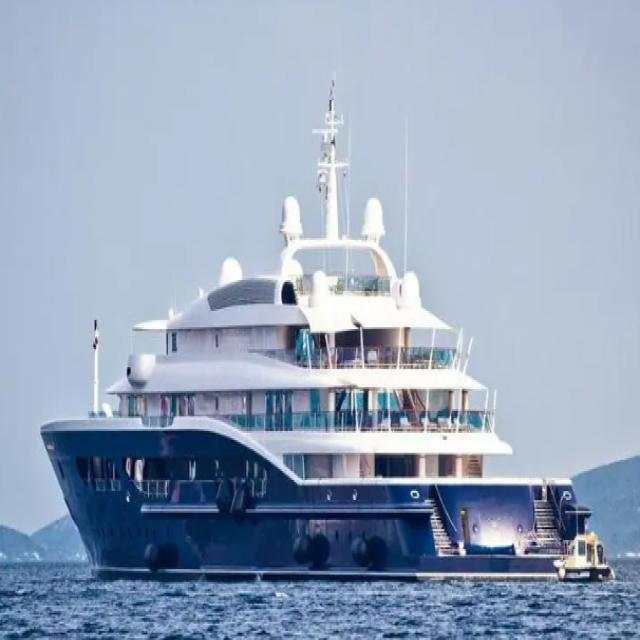passenger ship: (41, 217, 596, 591)
